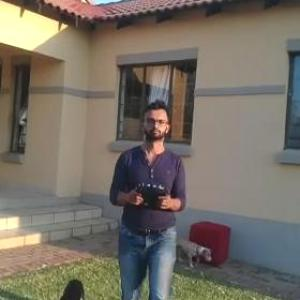follow: (105, 93, 191, 299)
null: (174, 234, 218, 272)
